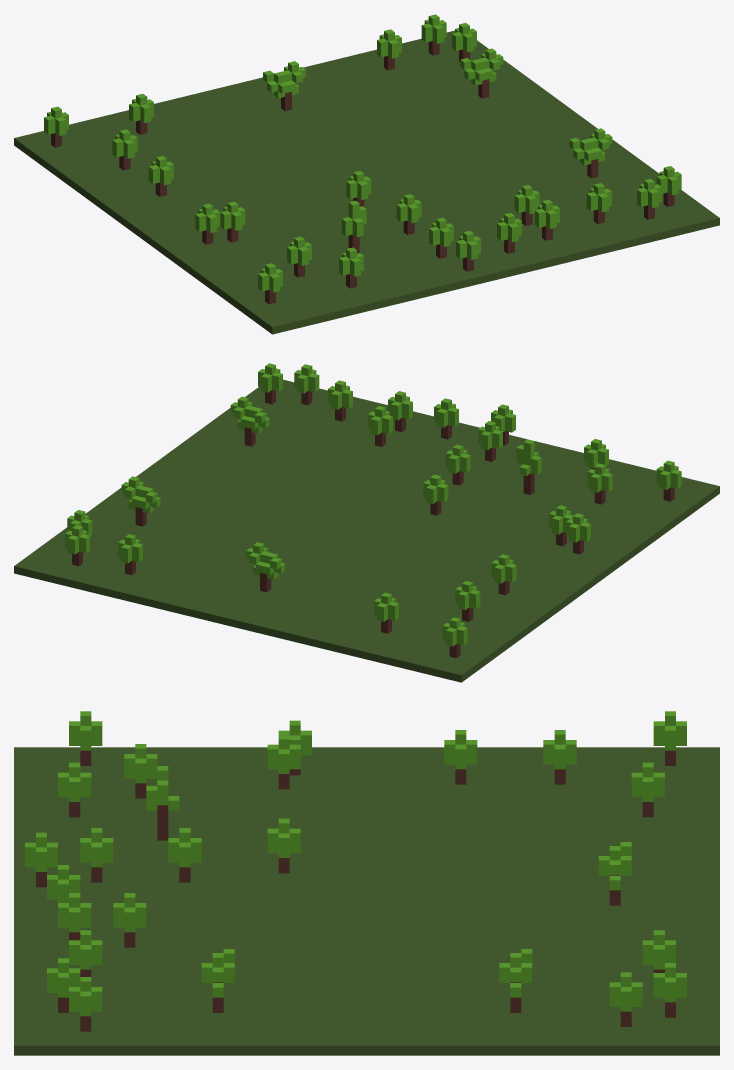
File: grass.gltf
3 views of the same model, one above another, from view 1: azimuth 30°, elevation 25°; view 2: azimuth 150°, elevation 25°; view 3: azimuth 270°, elevation 25° (orthographic). The views are drawn at different scales.
Visible parts, largest first — view 1: ground, trees; view 2: ground, trees; view 3: ground, trees.
Part boxes in pixels (x1,y1,x2,y2): ground: (14,30,719,334); trees: (44,14,681,304); ground: (14,379,719,682); trees: (65,363,681,658); ground: (14,747,719,1055); trees: (25,711,686,1031).
Bounding box in the file's own units: 64 × 8 × 64.
